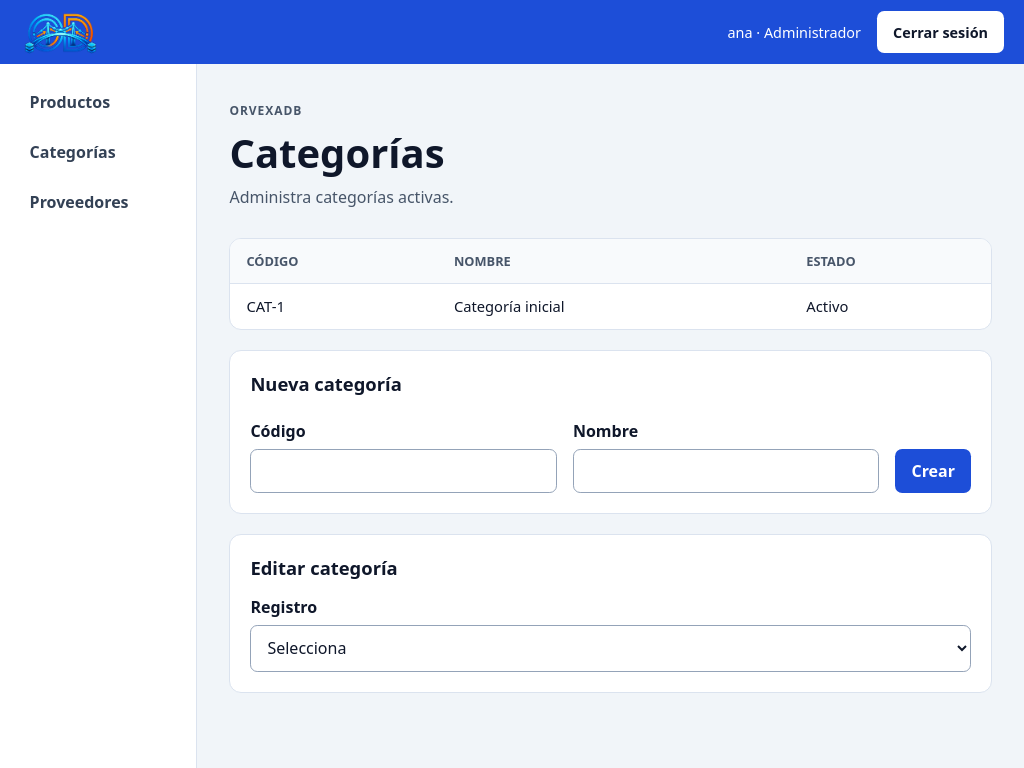
Scenario: flujos de aplicación › carga y crea una categoría desde el formulario
Expected: the cell "Categoría inicial" is shown, [438, 283, 790, 329]
Step 1. Type "CAT-2" into the field labelled "Código" → (404, 471), box [250, 448, 557, 493]
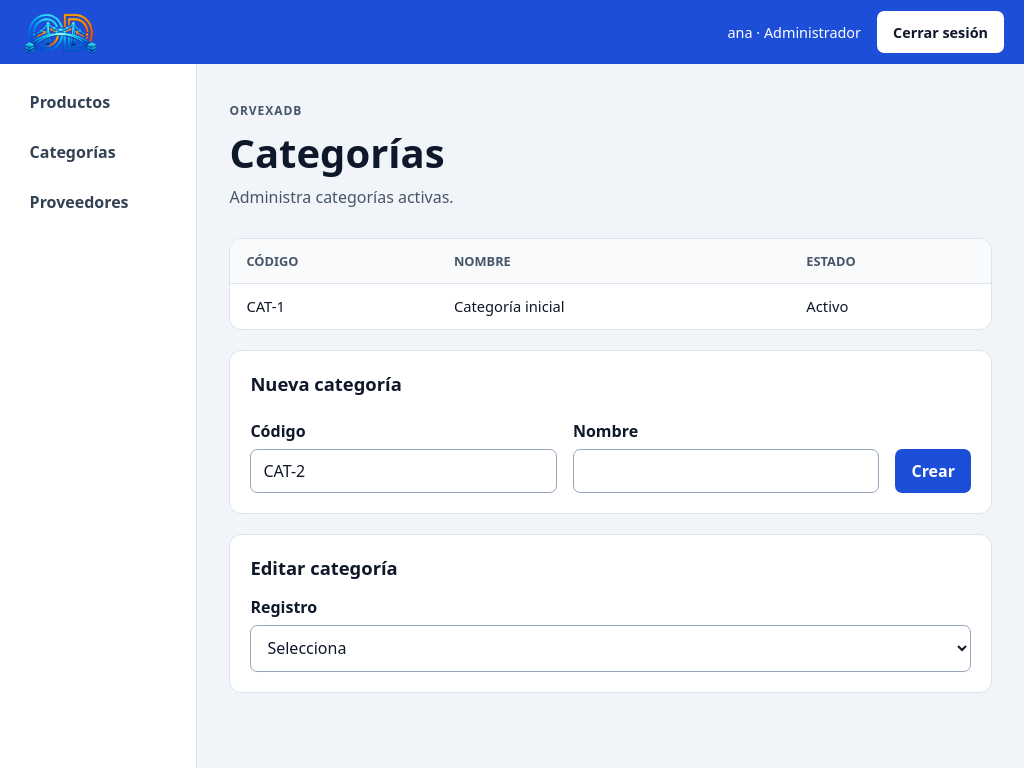
Step 2. Type "Nueva categoría" into the field labelled "Nombre" → (726, 471), box [573, 448, 880, 493]
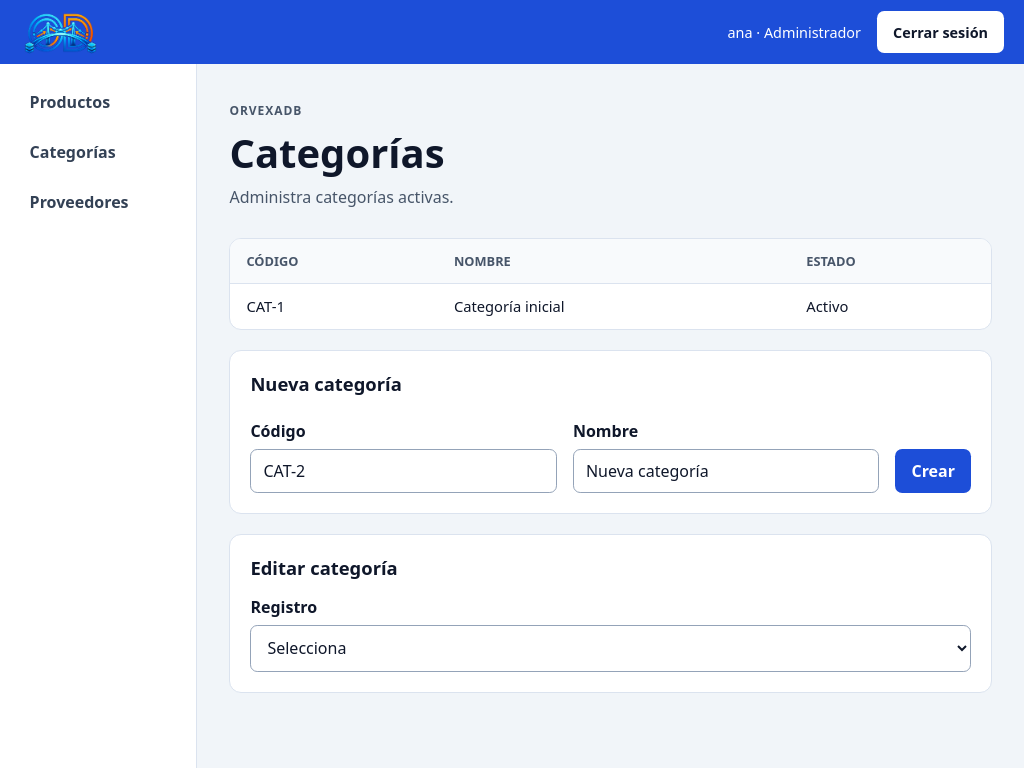
Step 3. Submit the form "Crear", box [250, 420, 971, 493]
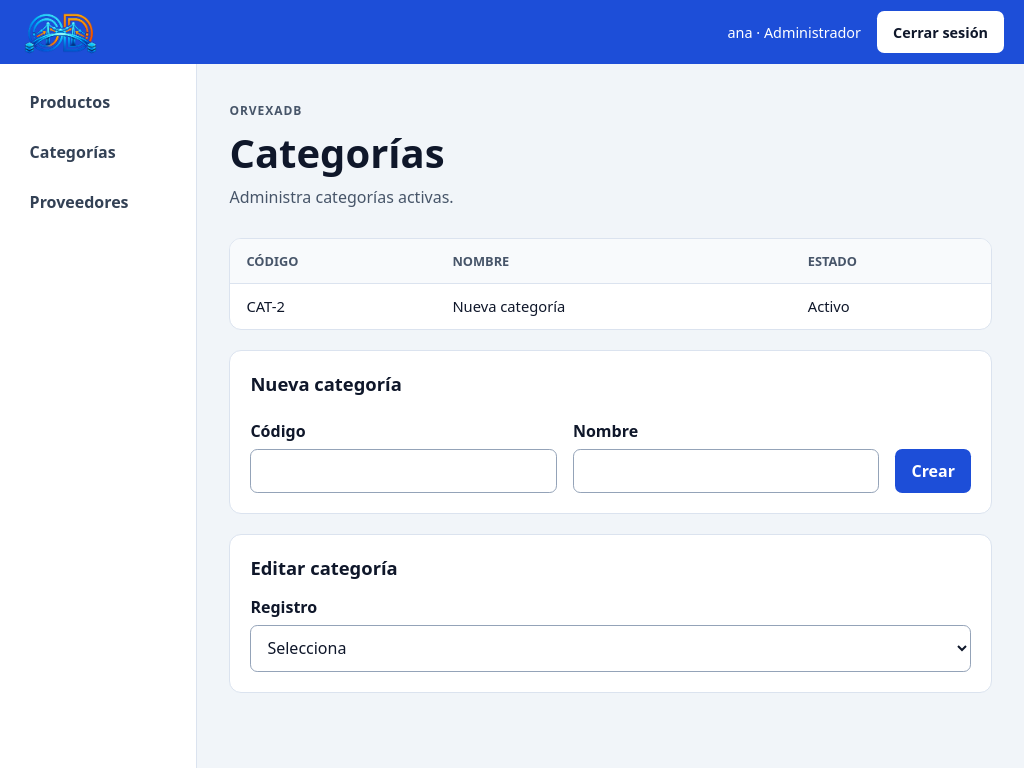
Expected: the cell "Nueva categoría" is shown, [436, 283, 792, 329]
